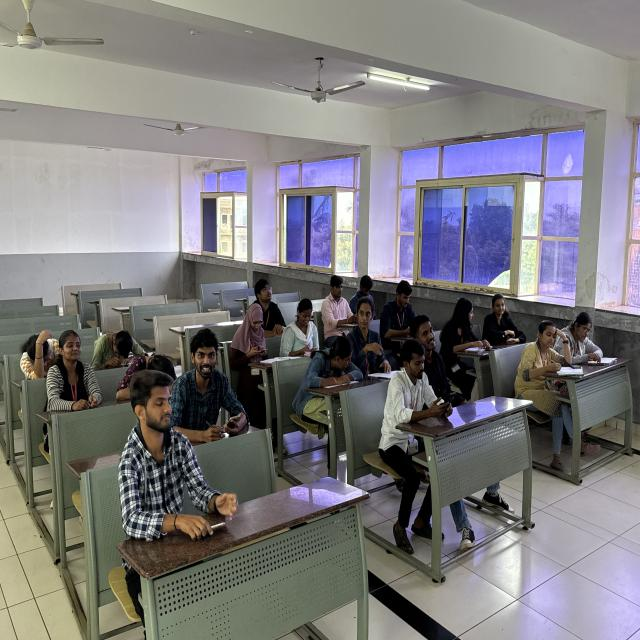Reading: (555, 307, 613, 372)
Sleeping: (290, 335, 365, 407), (13, 322, 68, 383), (86, 328, 146, 372)
Using Phone: (170, 324, 248, 446), (375, 336, 458, 446), (279, 296, 324, 355), (232, 303, 272, 369)
Writing: (517, 319, 578, 393)
